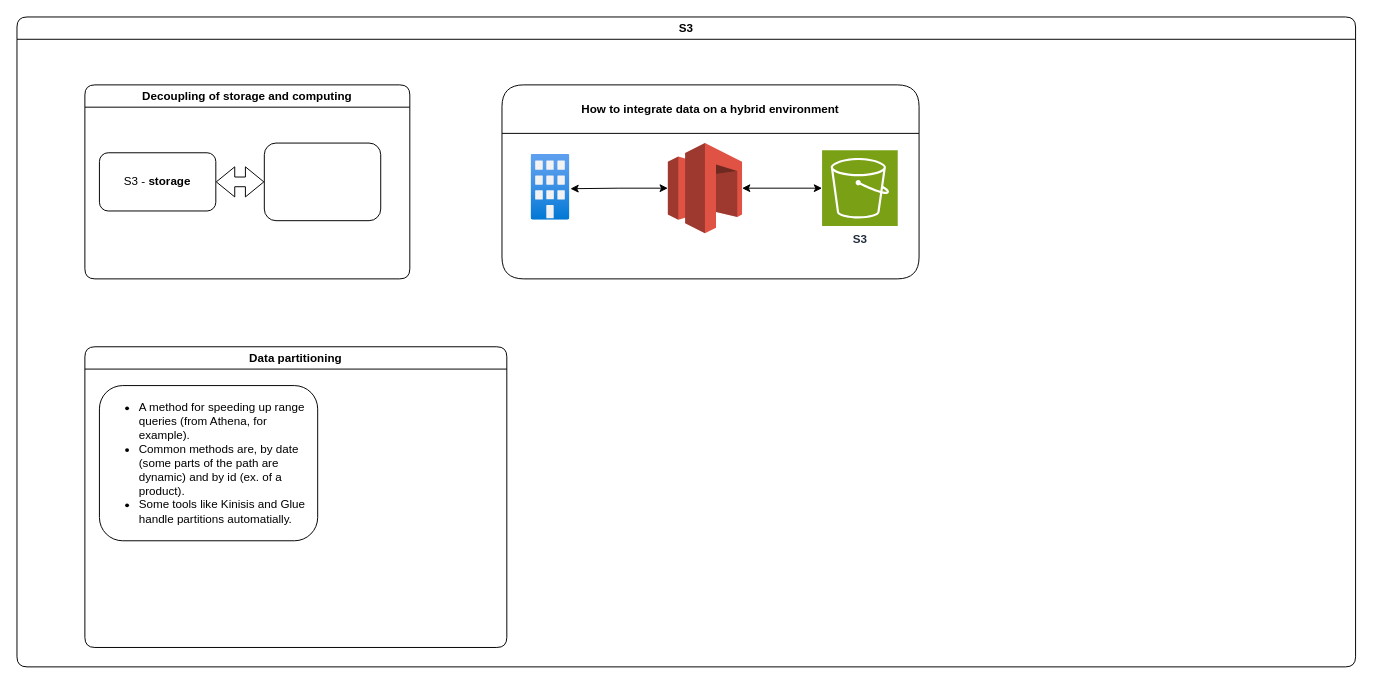
The diagram is 1373 pixels wide and 684 high, and some of its shapes have lost their labels. The shapes that lost their labels are listed below. From the top down, each one's centre as x and y in pixels, then its label:
the point at 322,181: EC2, Athena, RedShift, Spectrum, Recognition, Glue - compute
the point at 550,187: On Premisses
the point at 704,187: Storage Gateway
